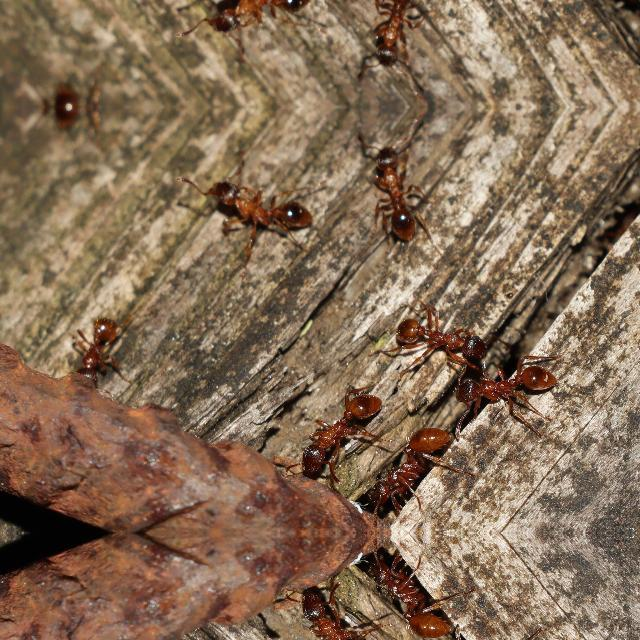Myrmica: (357, 130, 453, 250), (360, 423, 468, 523), (192, 162, 328, 240), (359, 542, 466, 640), (282, 382, 390, 471), (50, 308, 150, 397), (440, 355, 564, 421), (357, 0, 453, 80), (190, 0, 328, 50), (382, 308, 496, 368), (282, 594, 390, 640), (14, 77, 134, 106), (14, 106, 134, 134)
